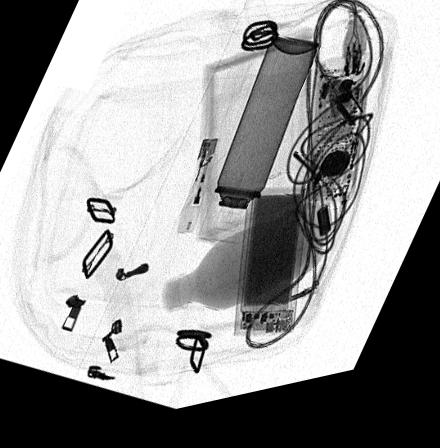Lighter: (176, 146, 218, 240)
Powerbank: (234, 201, 309, 347)
Sprayer: (198, 47, 318, 255)
